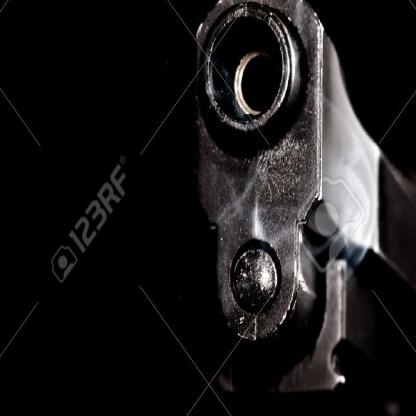gun: (178, 0, 404, 415)
